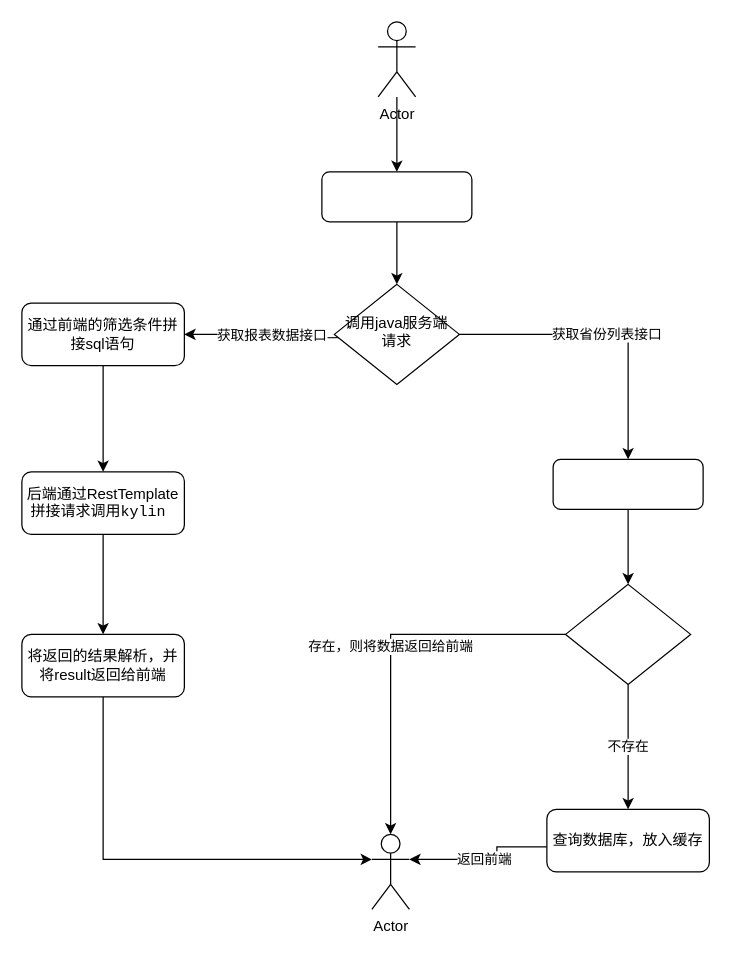
This 731x958 diagram has some shape labels left out. The shapes that lost their labels are listed below. From the top down, each one's centre as x and y in pixels, then its label:
At pixel 396 196: "访问报表页面".
At pixel 627 483: "查询redis获取省份list".
At pixel 627 633: "redis是否存在数据".
